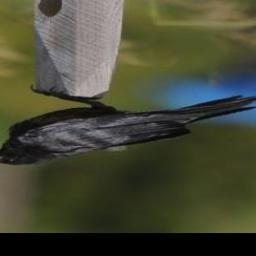Crow: (0, 85, 256, 167)
